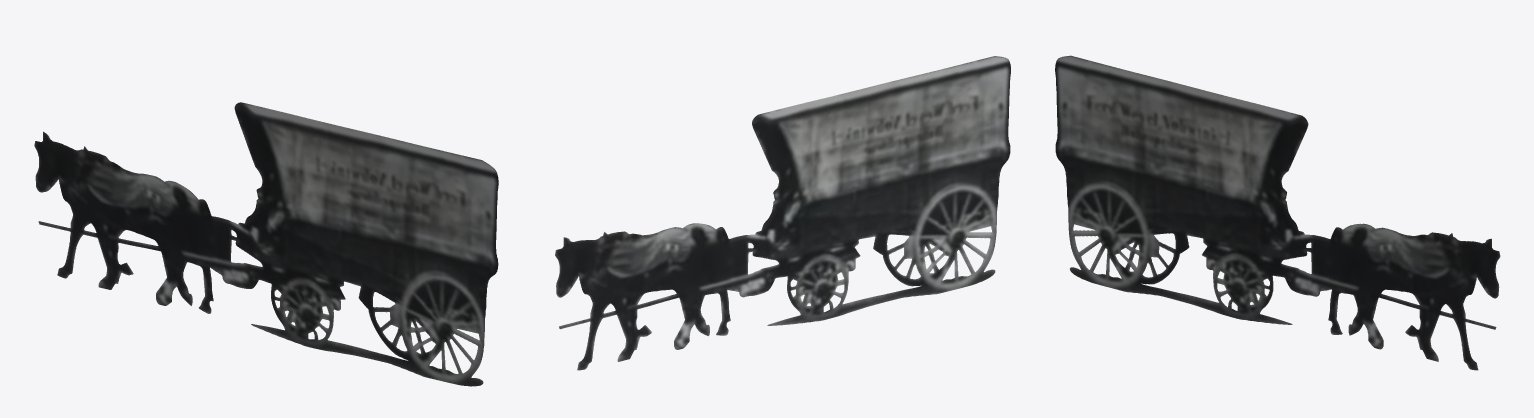
Rendered from horse.FBX.
3 renders of one model, left to right at view 1: azimuth 90°, elevation 25°; view 2: azimuth 150°, elevation 25°; view 3: azimuth 270°, elevation 25°, orthographic. The views are drawn at different scales.
Visible parts, largest first — view 1: horse; view 2: horse; view 3: horse.
Part boxes in pixels (x1,y1,x2,y2): horse: (34,102,498,386); horse: (555,56,1010,370); horse: (1055,55,1500,370).
Size of the model in its own units: 334 by 363 by 567.
Materials: 1 (1 with a texture image).
